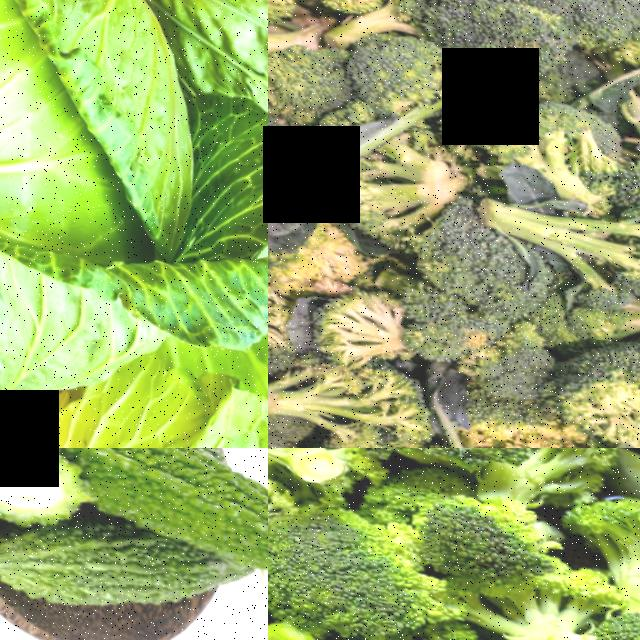bitter gourd: (62, 448, 268, 574), (6, 523, 205, 620), (0, 448, 75, 527)
broccoli: (268, 492, 449, 640), (425, 85, 626, 174), (377, 0, 640, 66), (304, 127, 446, 240), (474, 189, 640, 285), (530, 309, 640, 448), (452, 566, 607, 640), (575, 467, 640, 613), (336, 448, 535, 483)
cabbage: (0, 0, 268, 416)
